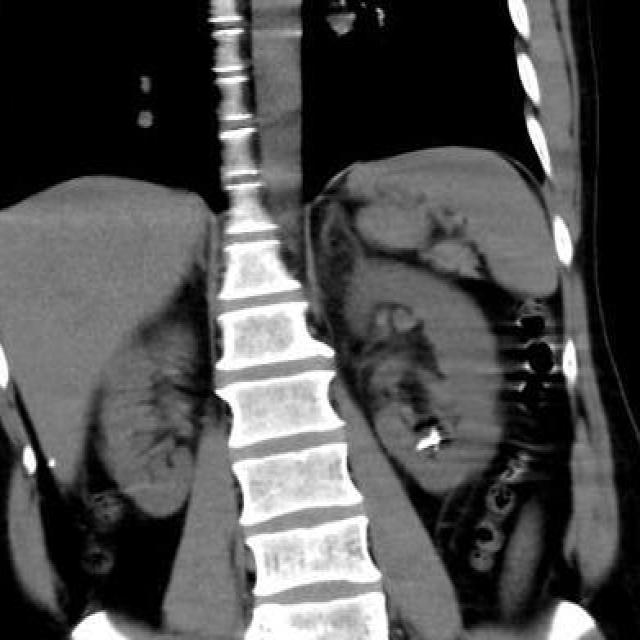Tas_Var: (416, 431, 442, 451), (430, 446, 440, 452)
